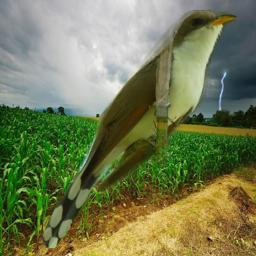Cuckoo: (43, 10, 237, 248)
